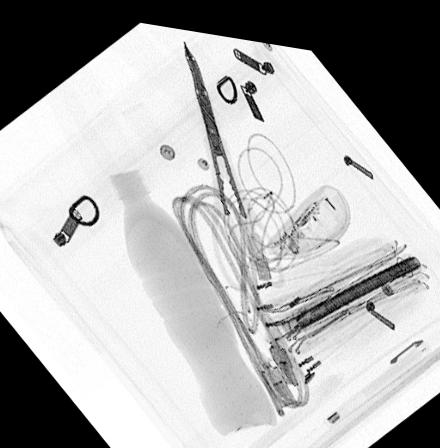Scissors: (182, 31, 285, 283)
